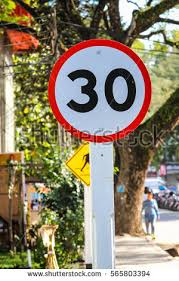Speed_limit_30km: (48, 39, 151, 140)
